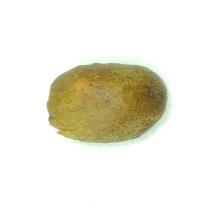NG: (48, 88, 79, 136), (135, 75, 163, 110)
